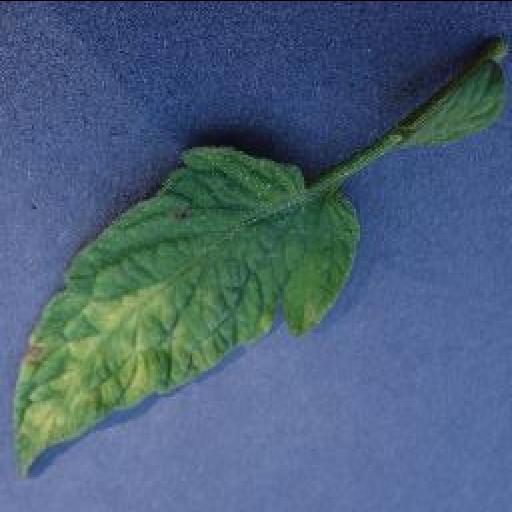disease_tomato: (14, 138, 360, 474)
